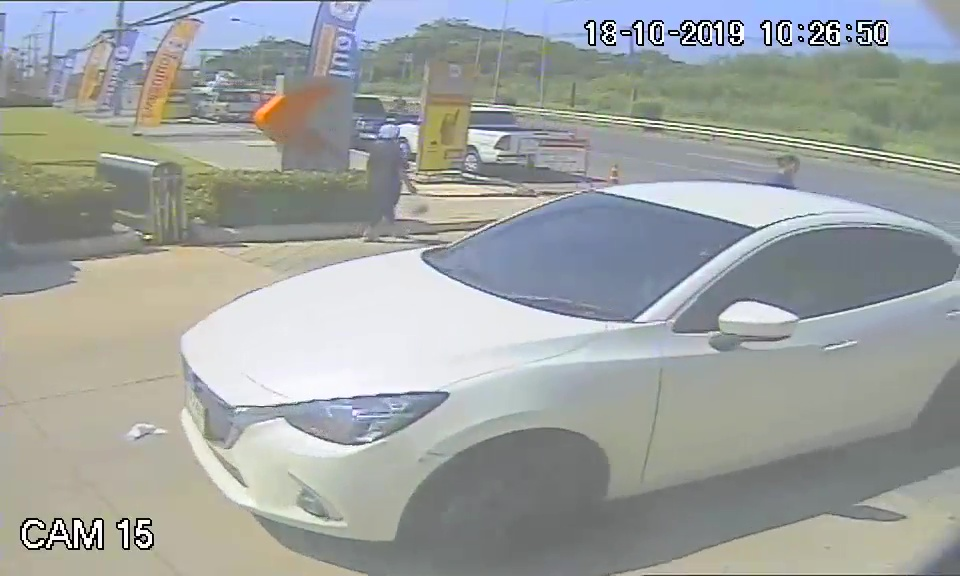sedan: (177, 176, 935, 549)
